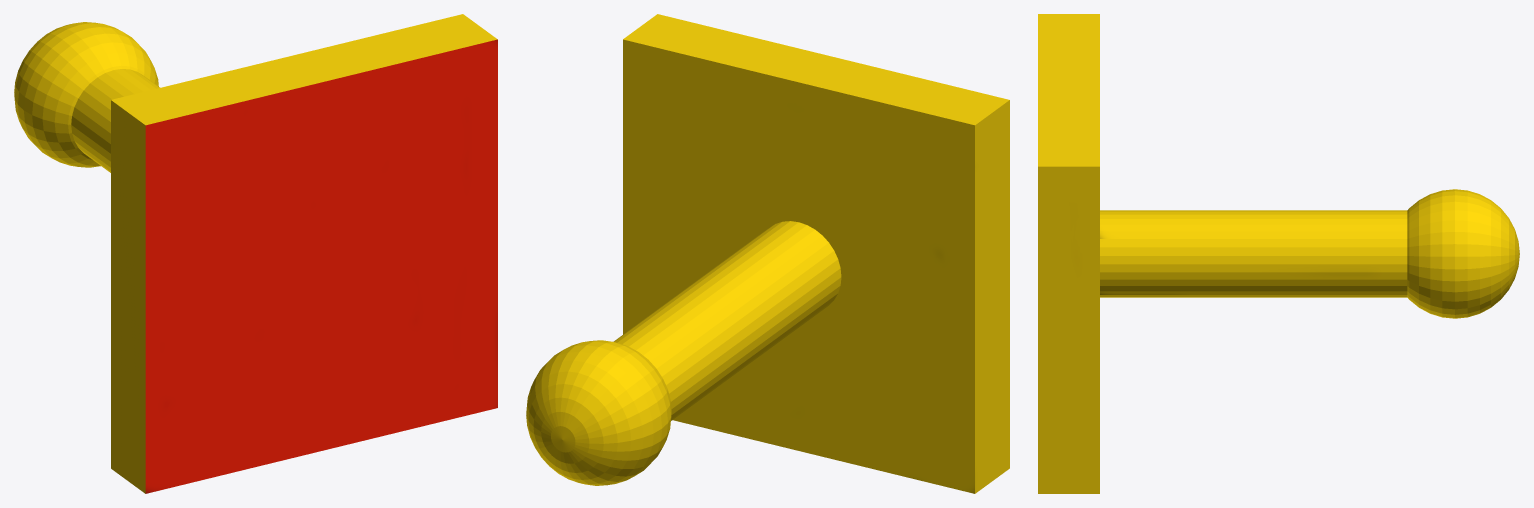
Rendered from Stamp.obj.
3 renders of one model, left to right at view 1: azimuth 30°, elevation 25°; view 2: azimuth 150°, elevation 25°; view 3: azimuth 270°, elevation 25°, orthographic. The views are drawn at different scales.
Parts seen in each view (by area): view 1: 球; view 2: 球; view 3: 球.
Part boxes in pixels (x1,y1,x2,y2): 球: (14,14,497,493); 球: (526,14,1009,493); 球: (1038,14,1519,493).
Bounding box in the file's own units: 4 × 4 × 5.34.
Materials: 1 (1 with a texture image).
